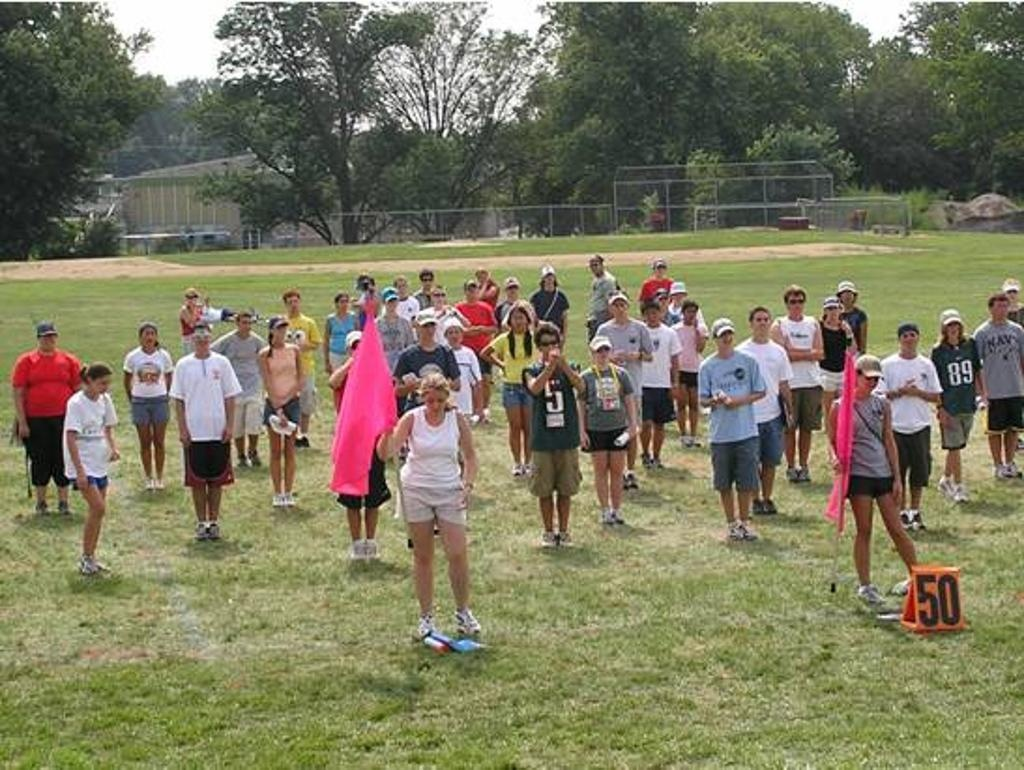human_face: (424, 391, 446, 412), (858, 370, 878, 392), (714, 326, 734, 345), (788, 292, 804, 312), (540, 334, 556, 354), (349, 341, 365, 361), (752, 312, 768, 330), (94, 373, 108, 393), (511, 311, 525, 330), (901, 330, 917, 346), (992, 300, 1008, 316), (642, 308, 658, 324), (194, 337, 210, 353), (141, 328, 155, 346), (39, 332, 55, 347), (420, 321, 434, 337), (447, 328, 461, 344), (612, 298, 626, 314), (840, 289, 854, 304), (826, 305, 840, 319), (594, 346, 608, 360), (682, 305, 694, 321), (946, 320, 958, 335), (273, 324, 285, 338), (286, 296, 298, 310), (336, 296, 348, 310), (432, 291, 444, 304), (1006, 288, 1018, 300), (464, 285, 476, 297), (543, 272, 555, 284), (385, 296, 397, 308), (506, 285, 518, 296), (240, 316, 250, 329), (670, 292, 682, 302), (422, 274, 432, 286), (396, 280, 406, 292), (654, 264, 664, 274), (657, 296, 667, 306), (476, 273, 486, 283), (186, 294, 196, 304), (590, 260, 598, 272)
